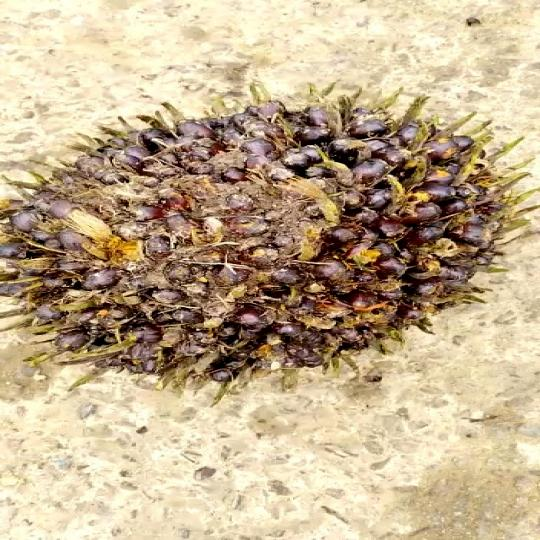kurang masak: (0, 67, 540, 386)
